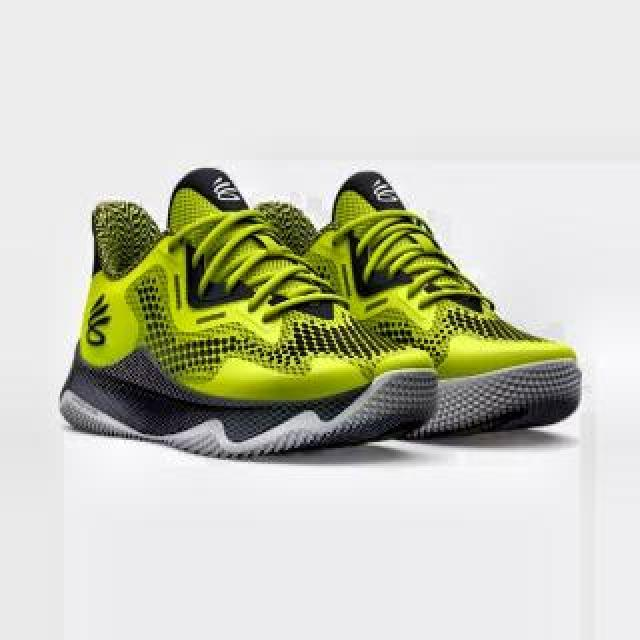shoe: (58, 168, 442, 456), (234, 170, 582, 436)
